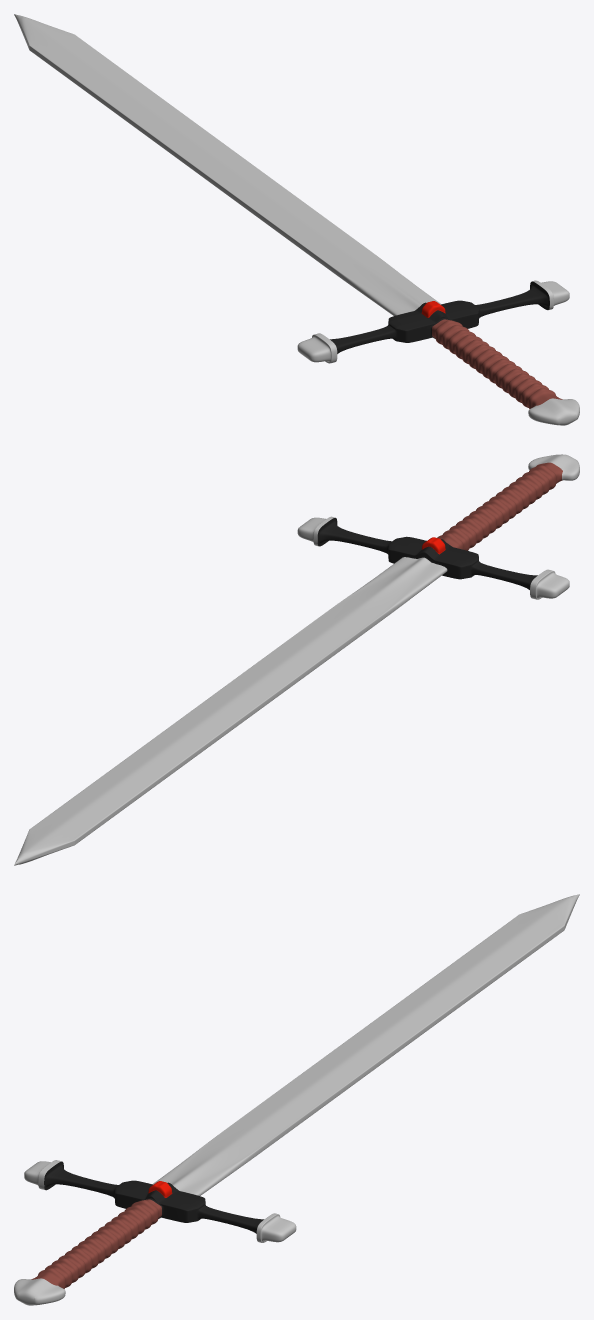
The model's file is 红宝石剑.fbx.
The picture shows the model from 3 angles, top to bottom: view 1: azimuth 30°, elevation 25°; view 2: azimuth 150°, elevation 25°; view 3: azimuth 330°, elevation 25°; orthographic projection.
Visible parts, largest first — view 1: 立方体; view 2: 立方体; view 3: 立方体.
Part boxes in pixels (box(x1,y1,x2,y2)): 立方体: box(14, 14, 579, 425); 立方体: box(14, 454, 579, 865); 立方体: box(14, 894, 579, 1305).
Size of the model in its own units: 620 by 75.85 by 2288.
